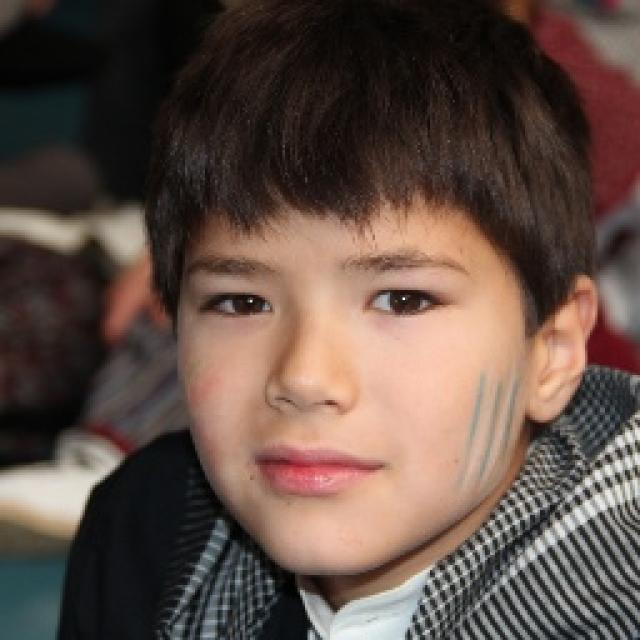earlobe: (524, 273, 599, 427)
